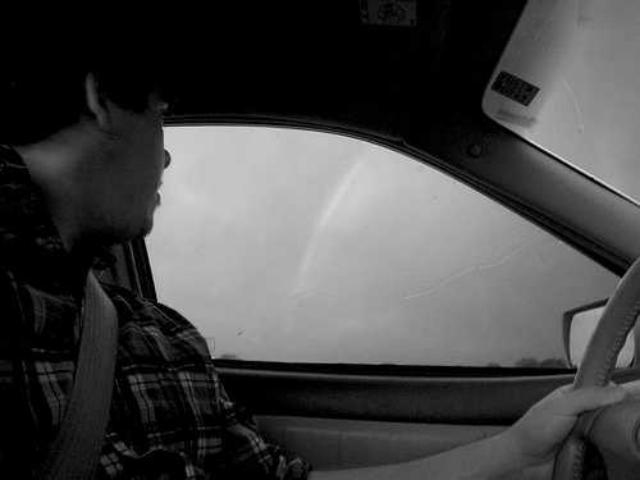Seatbelt: (52, 268, 120, 480)
